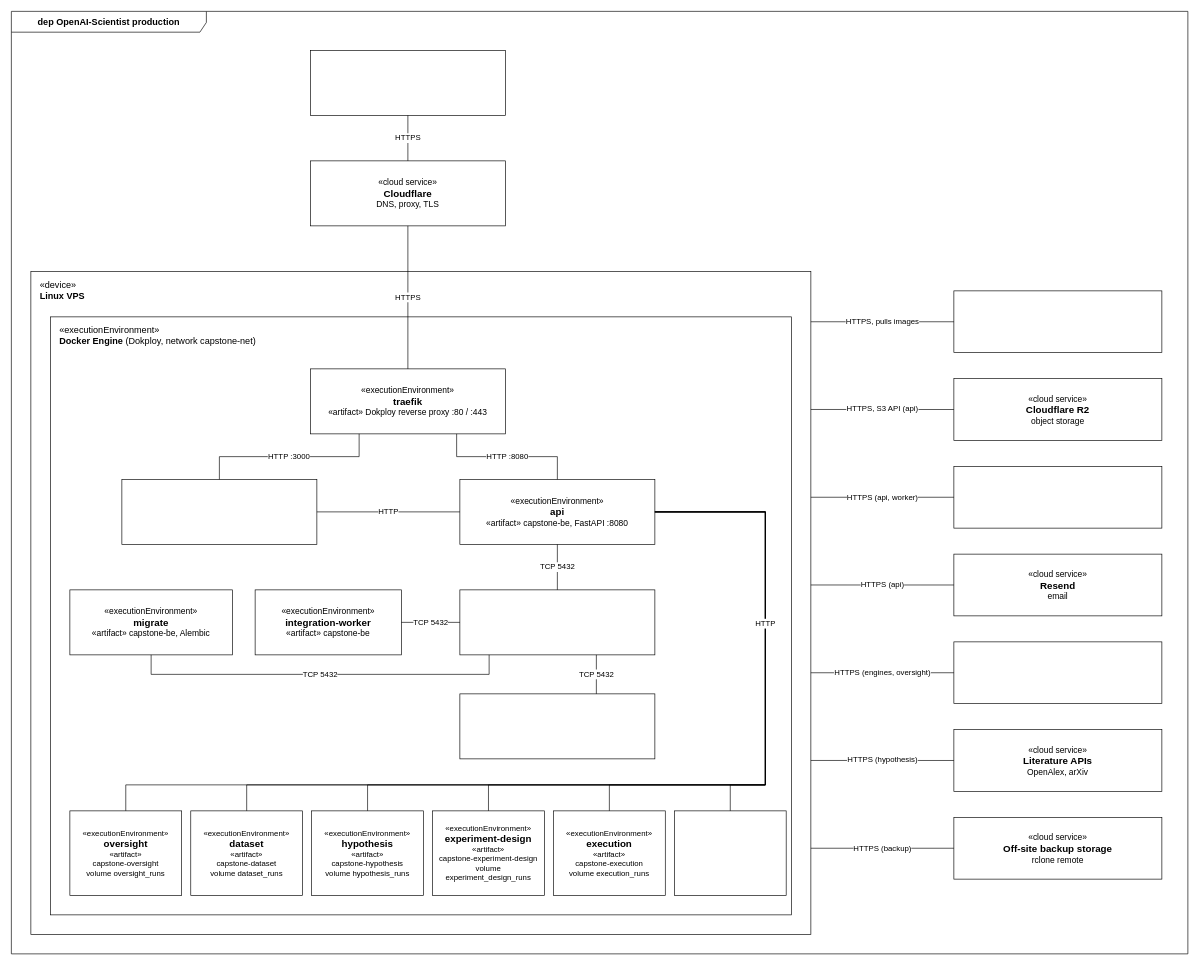
The diagram is 1199 pixels wide and 965 high, and some of its shapes have lost their labels. Each missing label, with the centre of its shape:
«cloud service» Docker Hub: [1057,321]
«cloud service» Google APIs sign-in, Drive: [1057,497]
«cloud service» LLM providers OpenAI, Gemini, OpenRouter: [1057,672]
«device» User browser: [407,82]
«executionEnvironment» backup «artifact» capstone-be, rclone volume backup_work: [557,726]
«executionEnvironment» db «artifact» postgres:16-alpine volume platform_db_data: [557,622]
«executionEnvironment» fe «artifact» capstone-fe, Next.js :3000: [219,511]
«executionEnvironment» writing «artifact» capstone-writing volume writing_runs: [730,852]
